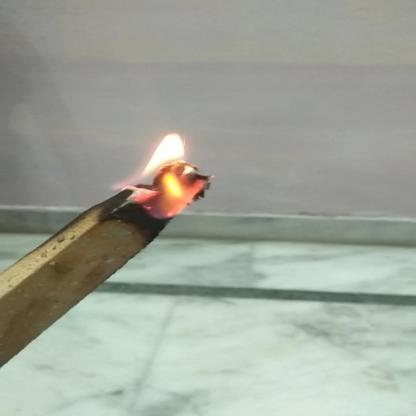fire: (124, 122, 218, 221)
